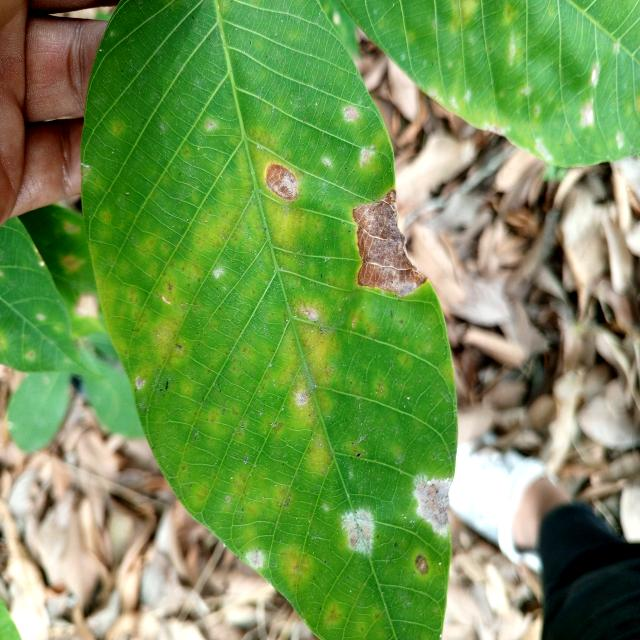Leaf-Blight: (352, 188, 428, 296), (266, 162, 298, 200)
